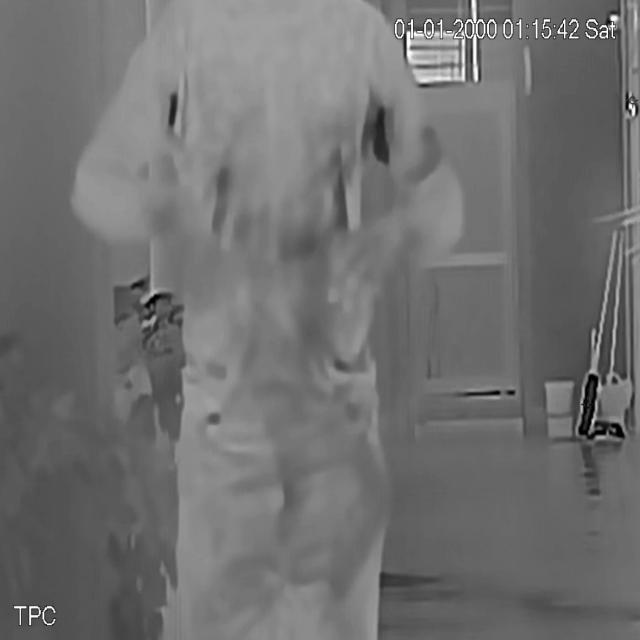Weapon: (325, 434, 395, 604)
